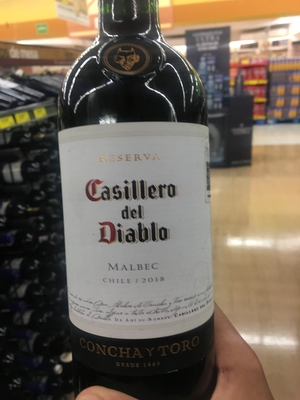casillero del diablo malbec: (51, 5, 224, 400)
